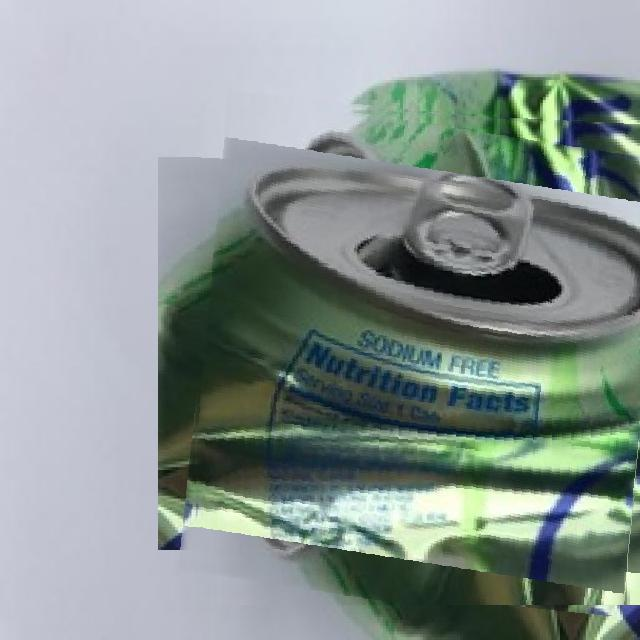recyclable: (190, 101, 640, 605)
